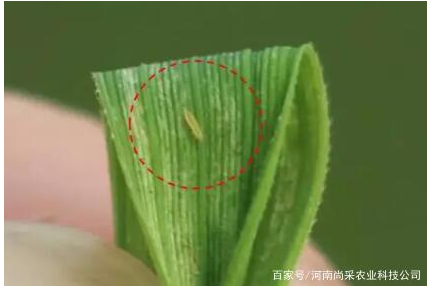thrips: (181, 108, 204, 141)
